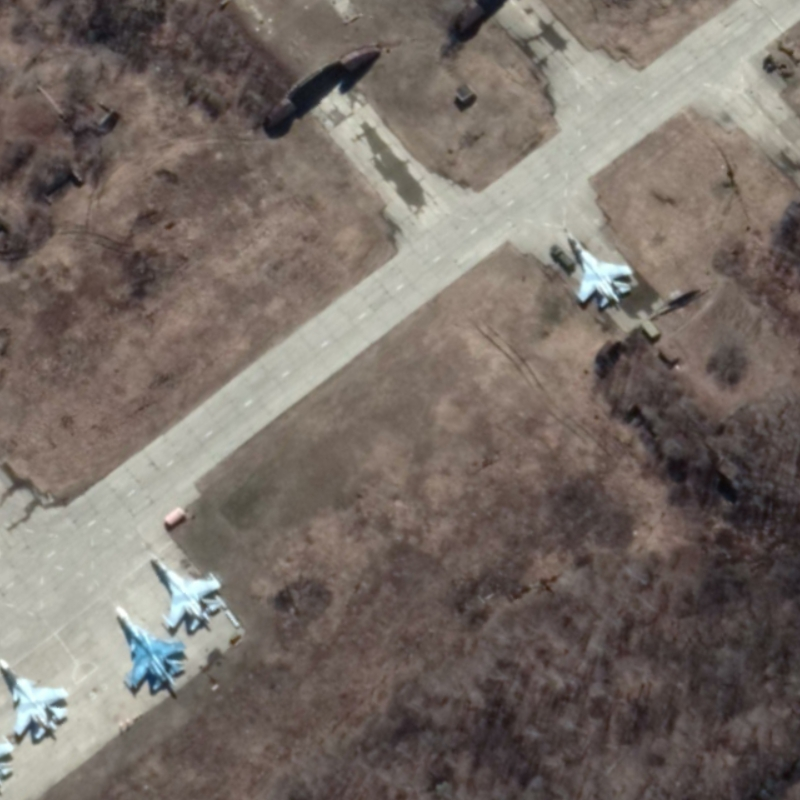A1: (148, 552, 224, 633), (565, 229, 634, 309)
A19: (113, 604, 189, 693), (1, 655, 71, 743)
